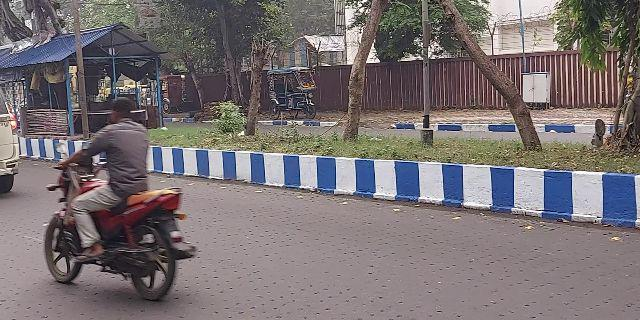Motorbike: (41, 91, 198, 310)
